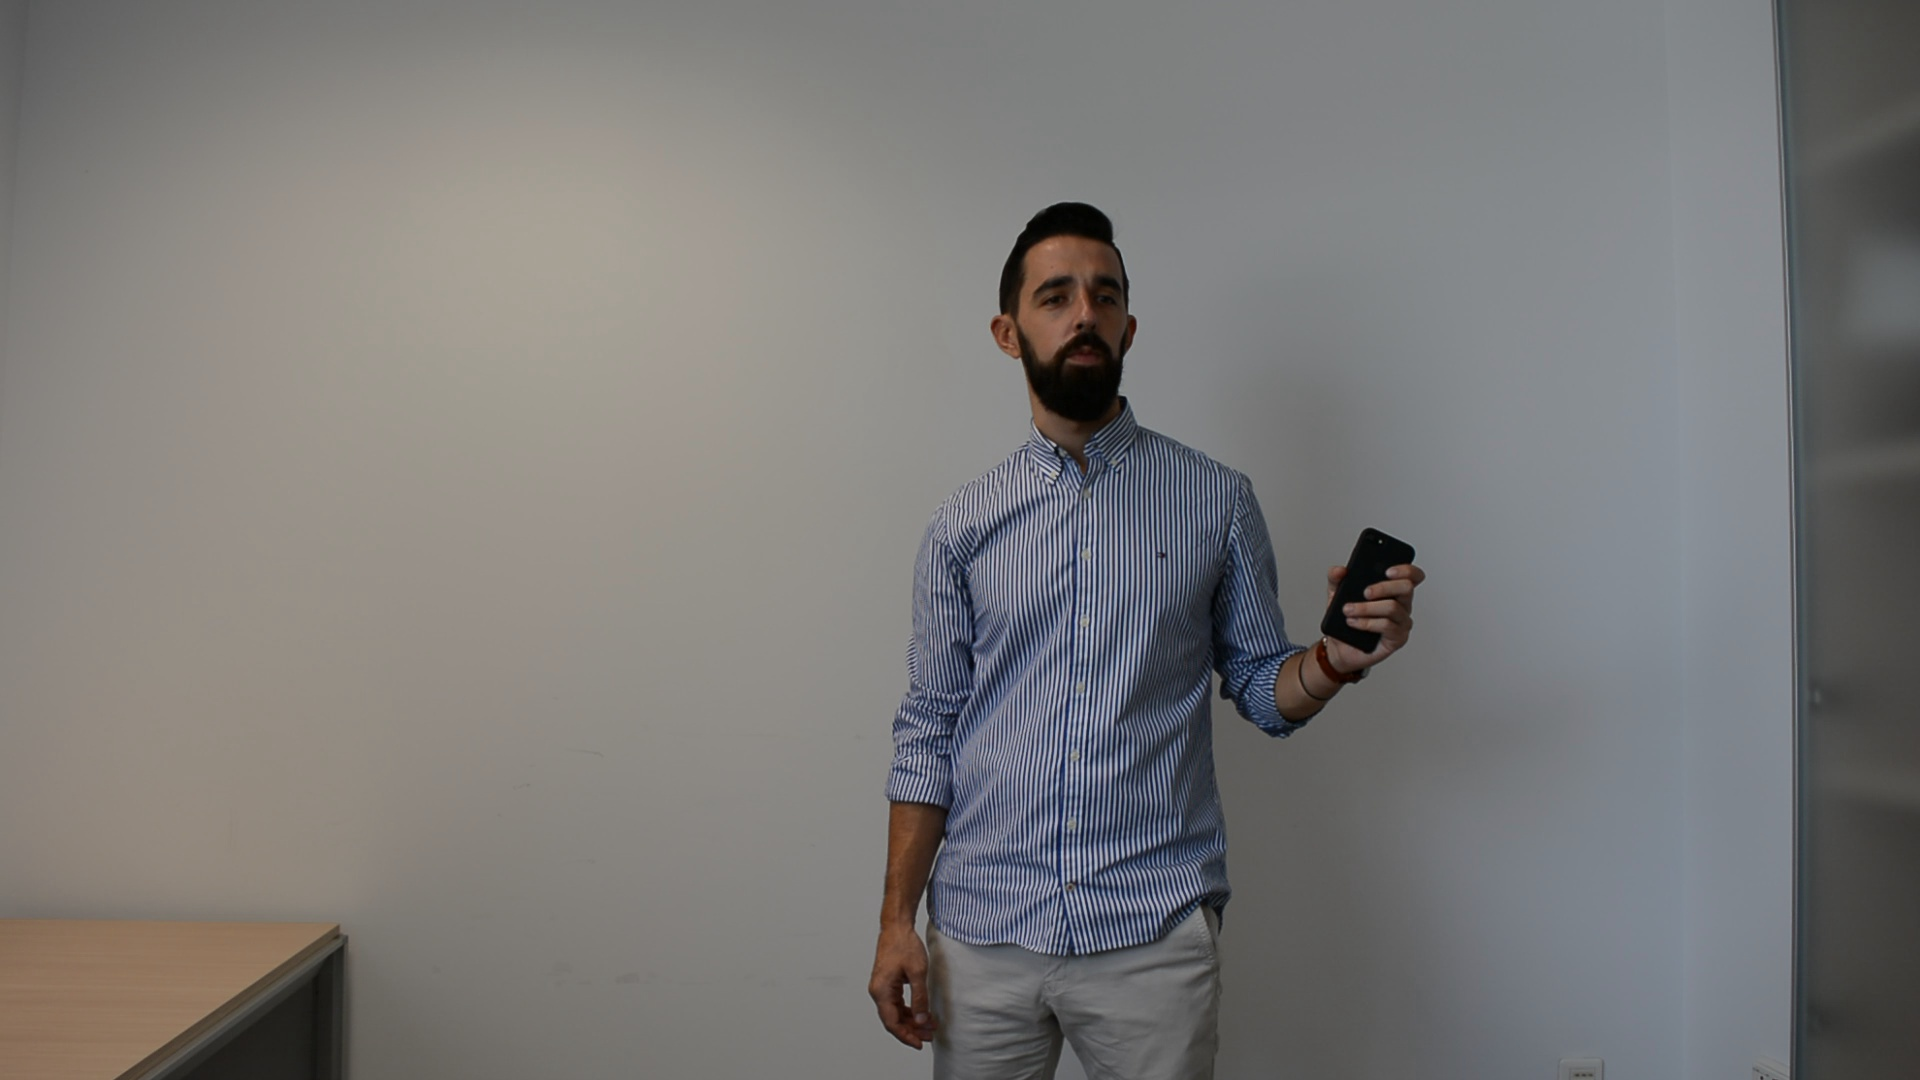smartphone: (1317, 525, 1418, 655)
